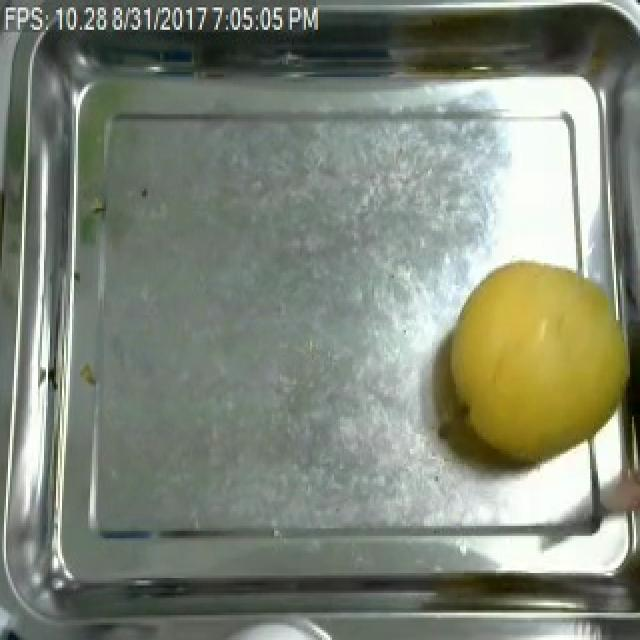fruit: (432, 253, 640, 479)
